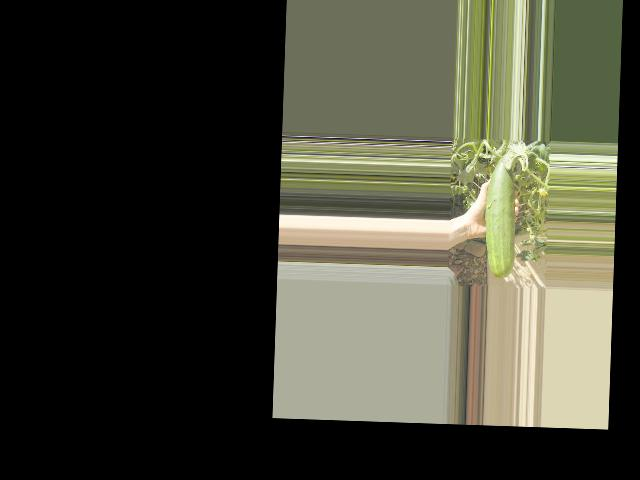cucumber: (483, 155, 517, 278)
